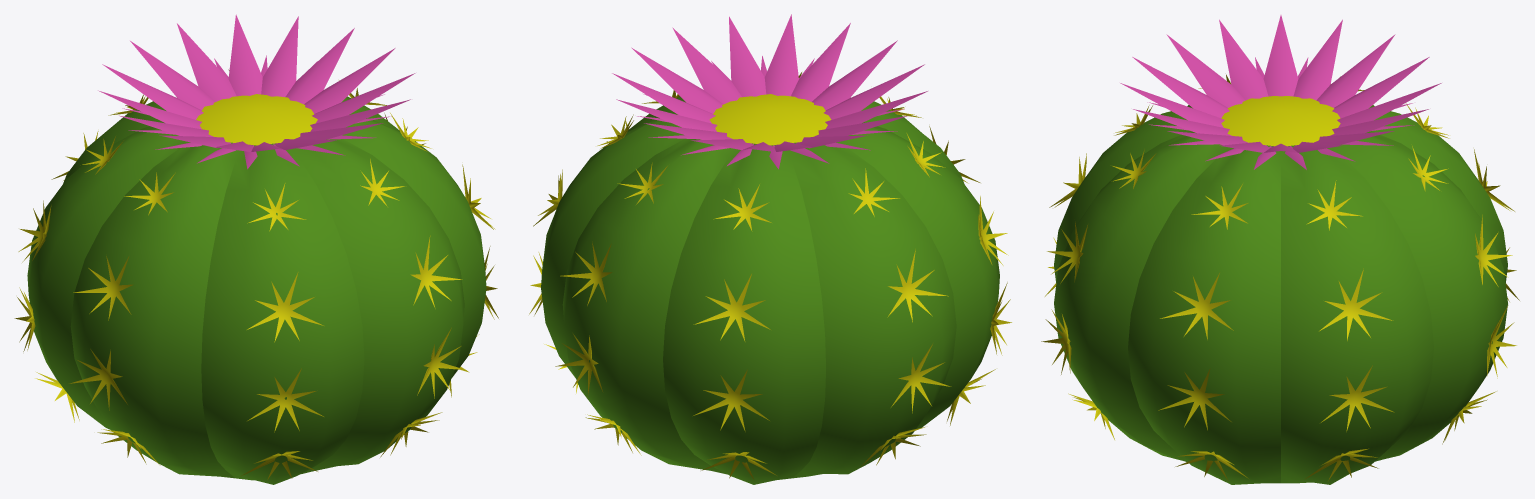
File: cactus3.fbx
The picture shows the model from 3 angles, left to right: view 1: azimuth 30°, elevation 25°; view 2: azimuth 150°, elevation 25°; view 3: azimuth 270°, elevation 25°; orthographic projection.
Visible parts, largest first — view 1: Cactus3, Barrel.003; view 2: Cactus3, Barrel.003; view 3: Cactus3, Barrel.003.
Part boxes in pixels (bbox=[...]): Cactus3: bbox=[14, 69, 498, 484]; Barrel.003: bbox=[98, 14, 415, 169]; Cactus3: bbox=[529, 72, 1011, 484]; Barrel.003: bbox=[612, 14, 927, 169]; Cactus3: bbox=[1041, 74, 1519, 484]; Barrel.003: bbox=[1120, 15, 1441, 169].
Bounding box in the file's own units: 78.13 × 65.29 × 77.63.
